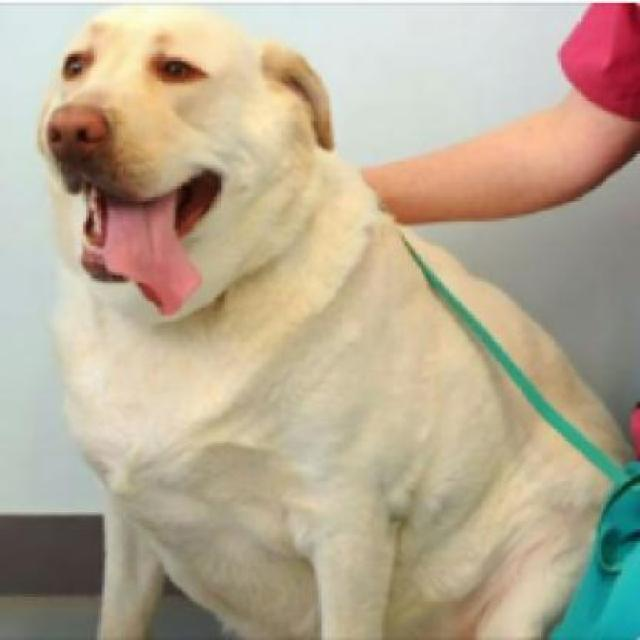Dog: (26, 6, 637, 637)
